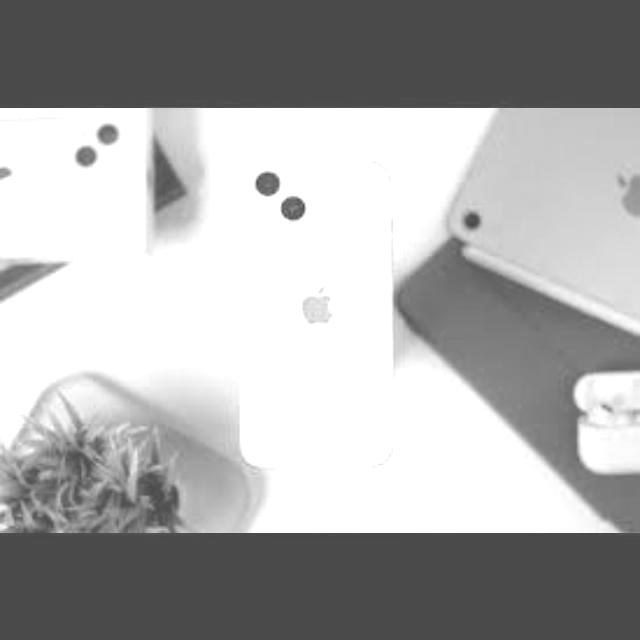fake: (218, 149, 405, 491)
